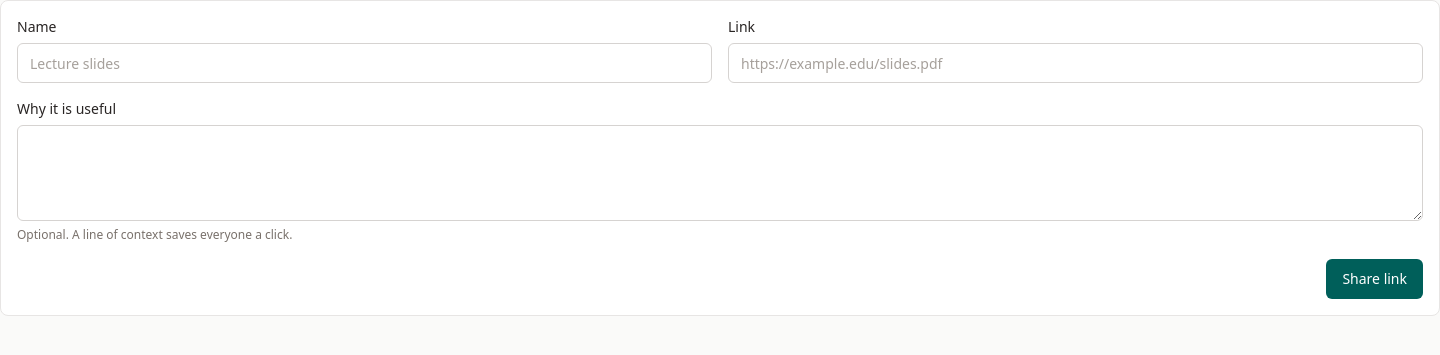
Scenario: ResourceForm › requires a name
The width and height of the screenshot is (1440, 355).
Type "https://example.edu" into the field labelled "Link" at (1076, 63), box [728, 43, 1423, 83]
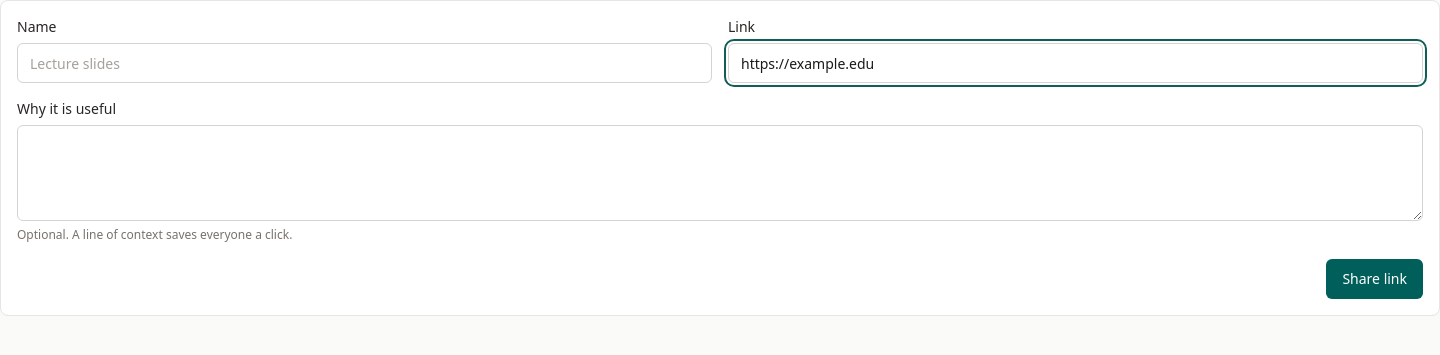
Click the button "Share link" at (1375, 279), box [1326, 259, 1423, 299]
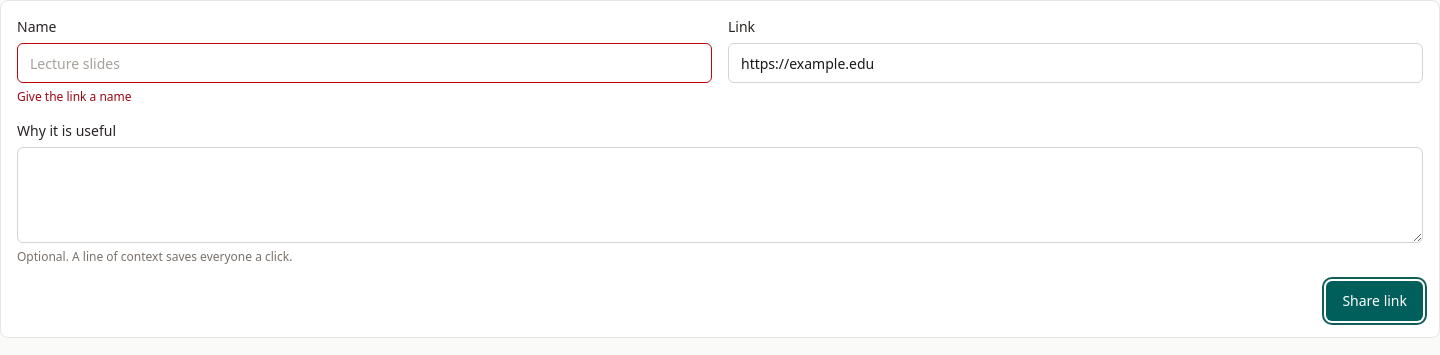
Result: the text "Give the link a name" is shown at [17, 88, 132, 105]
